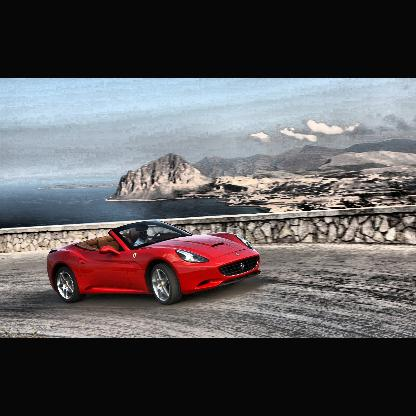Ferrari California Convertible 2012: (47, 222, 261, 307)
